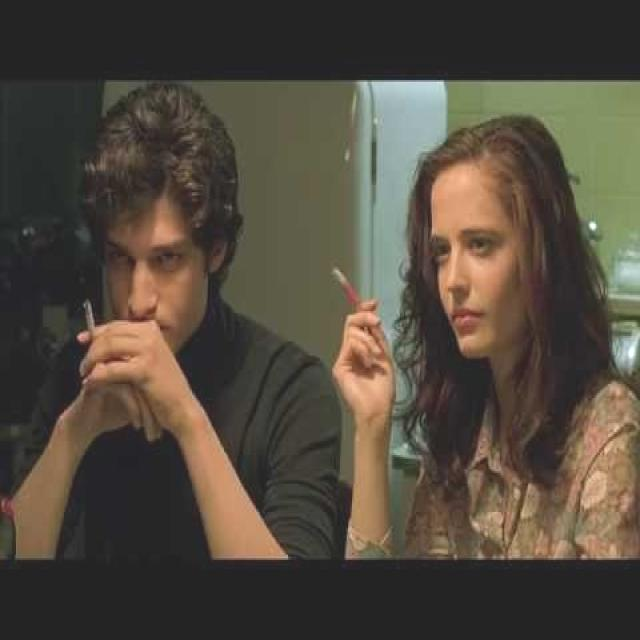Smooking: (318, 260, 406, 355), (72, 289, 104, 340)
